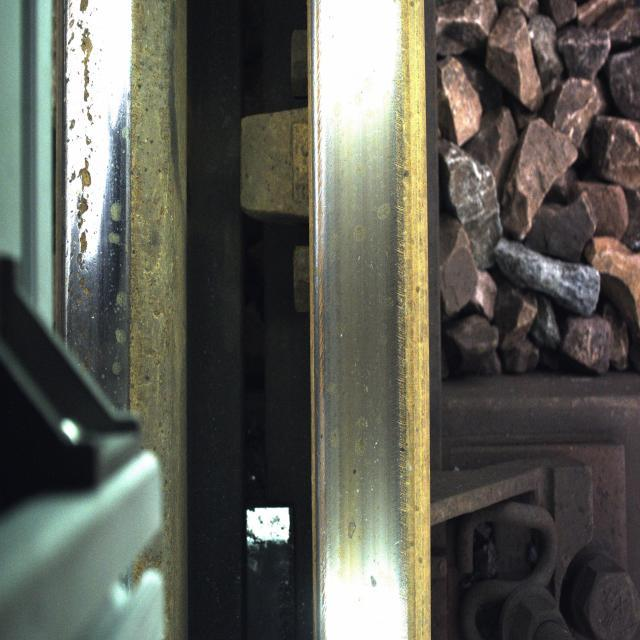normal: (315, 82, 414, 612)
scar: (50, 0, 105, 308)
